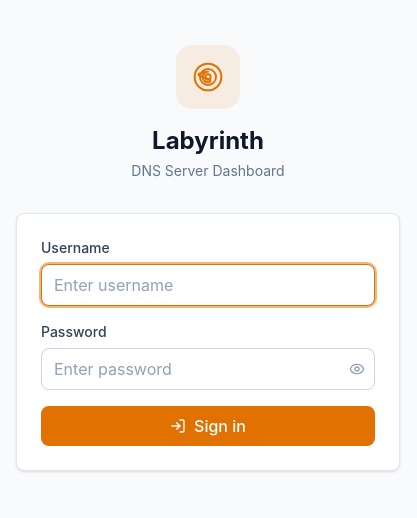
Scenario: LoginPage › shows a generic error when login returns a non-Error
The image size is (417, 518).
Step 1. Type "admin" into the field labelled "Username" → coordinates (208, 285), box [41,264,375,306]
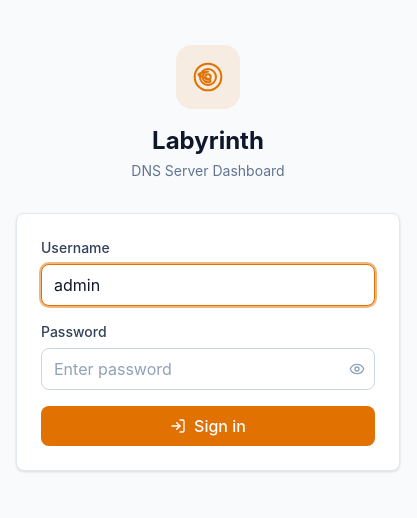
Step 2. Type "pass" into the password field labelled "Password" → coordinates (208, 369), box [41,348,375,390]
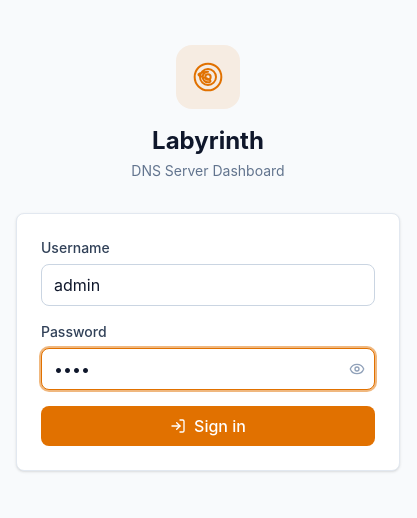
Step 3. Click the button "Sign in" → coordinates (208, 426), box [41,406,375,446]
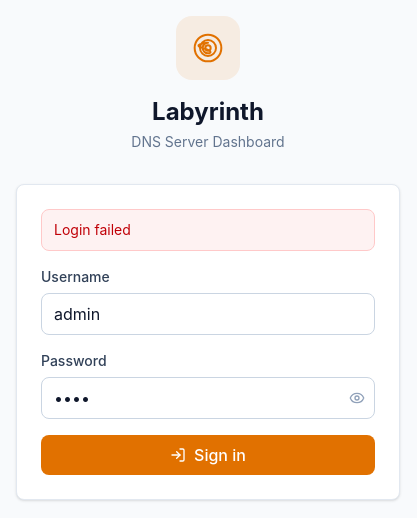
Check: the text "Login failed" is shown, box [41,209,375,251]
